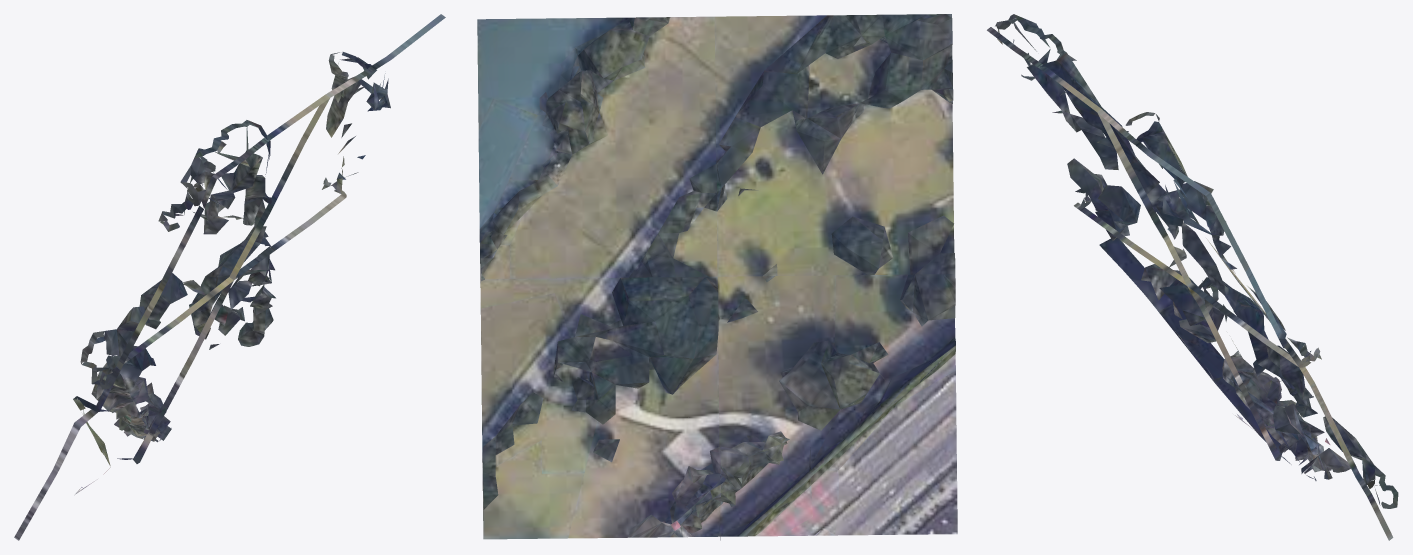
The picture shows the model from 3 angles, left to right: view 1: azimuth 30°, elevation 25°; view 2: azimuth 150°, elevation 25°; view 3: azimuth 270°, elevation 25°; orthographic projection. The views are drawn at different scales.
Size of the model in its own units: 157 by 143 by 130.
Materials: 2 (2 with a texture image).
